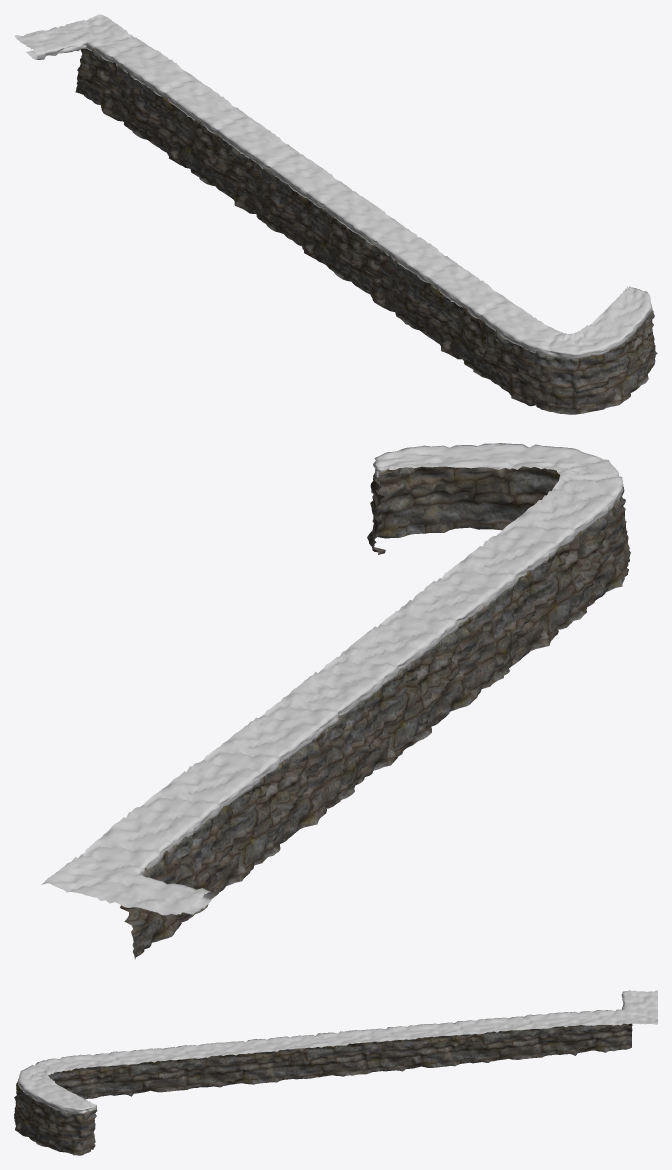
Rendered from Fundament_joint.fbx.
The picture shows the model from 3 angles, top to bottom: view 1: azimuth 30°, elevation 25°; view 2: azimuth 150°, elevation 25°; view 3: azimuth 270°, elevation 25°; orthographic projection. The views are drawn at different scales.
Parts seen in each view (by area): view 1: Fundament_LOD0; view 2: Fundament_LOD0; view 3: Fundament_LOD0.
Boxes of the visible parts, <box> form: Fundament_LOD0: <box>14,14,657,414</box>; Fundament_LOD0: <box>42,443,630,959</box>; Fundament_LOD0: <box>14,990,657,1155</box>.
Size of what is drawn, in the model's own units: 458 by 172 by 1322.
